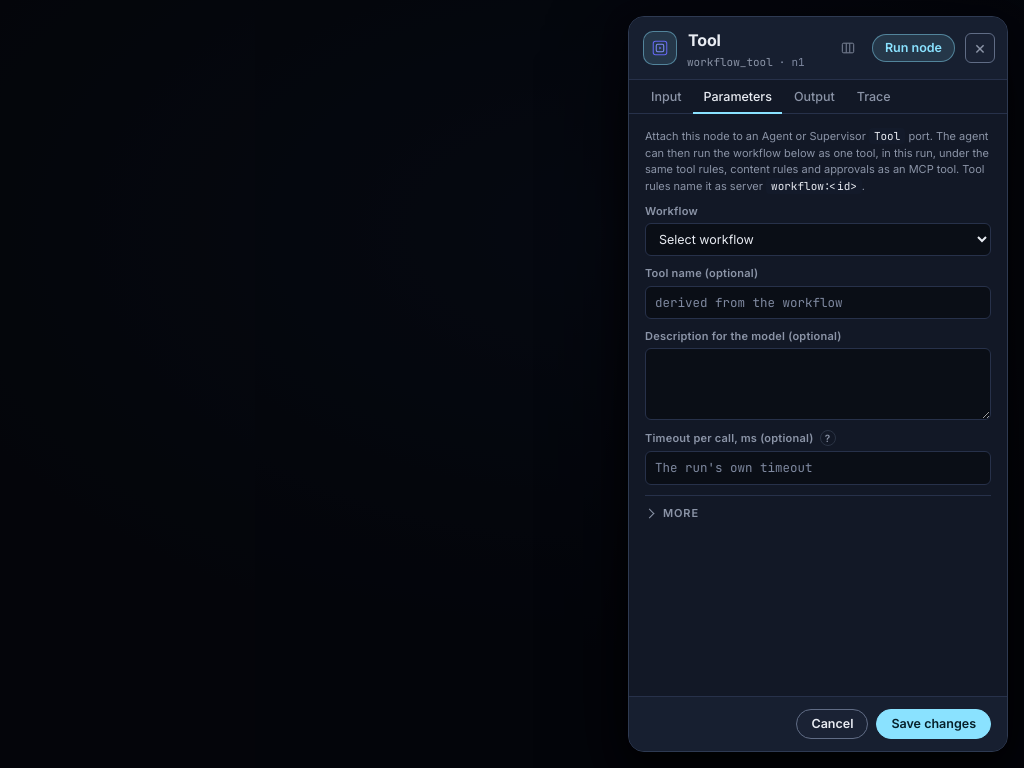
Workflow Tool node › picks the child workflow, previews the tool the agent sees, and saves the overrides
The width and height of the screenshot is (1024, 768).
Select "Order lookup (wf-lookup)" in the dropdown labelled "Workflow" at (818, 240), box x1=645 y1=223 x2=991 y2=256
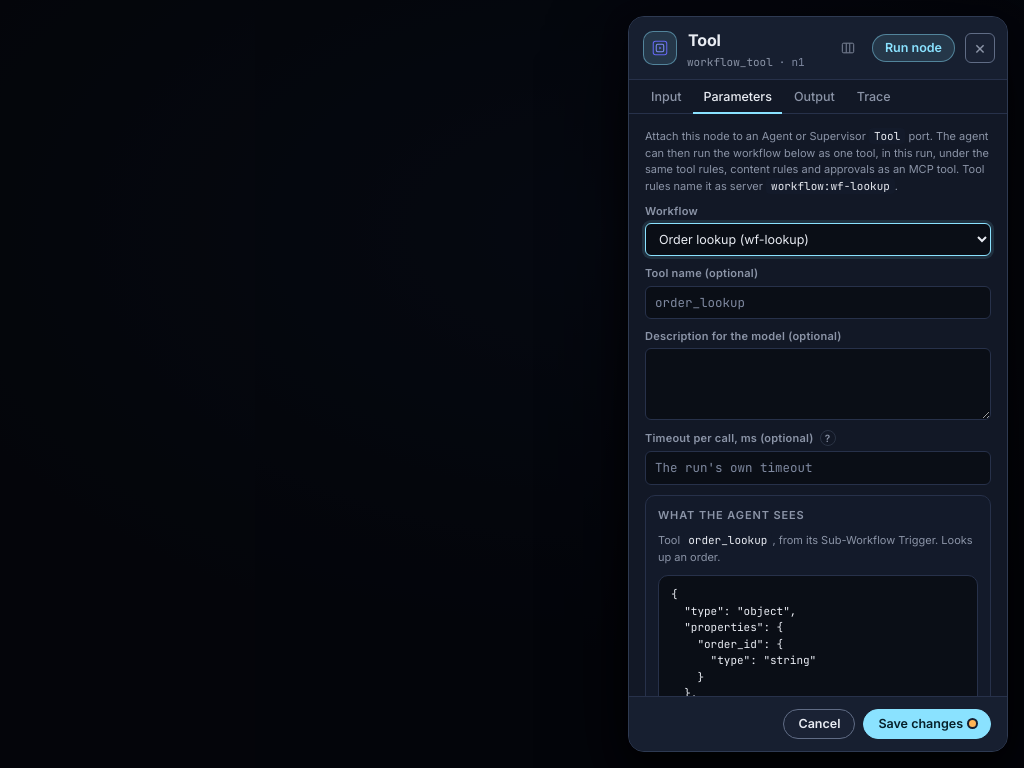
Result: the element with test id "workflow-tool-preview" shows "order_lookup" at x1=688 y1=533 x2=767 y2=547
Result: the element with test id "workflow-tool-preview" shows "Sub-Workflow Trigger" at x1=806 y1=533 x2=935 y2=547
Result: the element with test id "workflow-tool-preview" shows "Looks up an order." at x1=658 y1=533 x2=973 y2=564
Type "find order" into the field labelled "Tool name (optional)" at (818, 302), box x1=645 y1=286 x2=991 y2=319
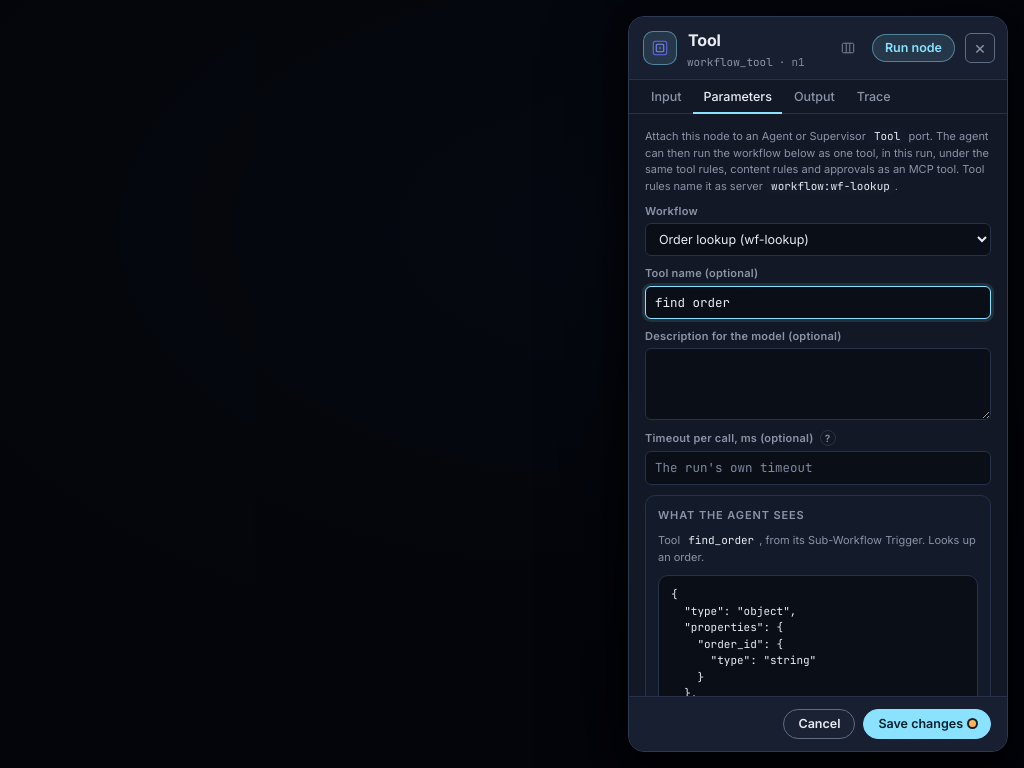
Result: the element with test id "workflow-tool-preview" shows "find_order" at x1=688 y1=533 x2=754 y2=547
Click the button "Save changes" at (927, 724), box x1=863 y1=708 x2=991 y2=739
(page scrolled)
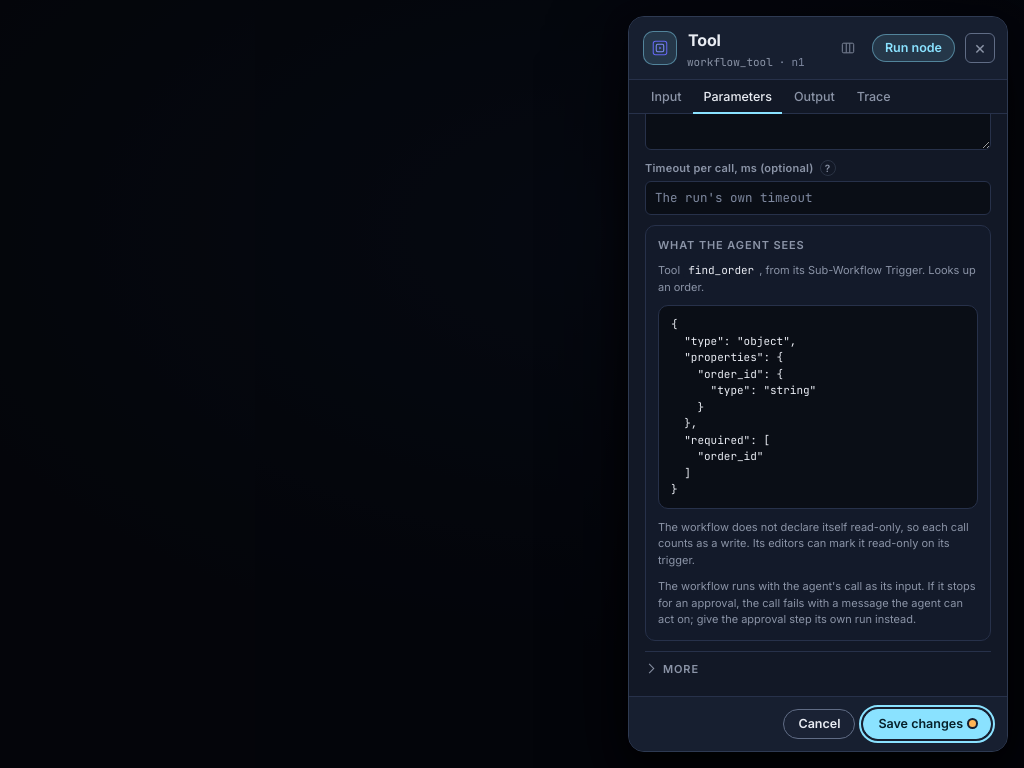
Result: the text with test id "workflow-tool-read-only" shows "does not declare itself read-only" at x1=658 y1=520 x2=969 y2=567
